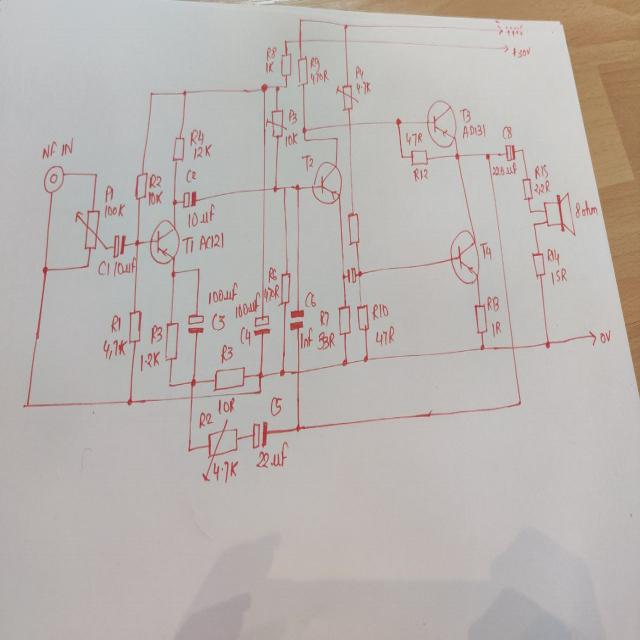capacitor: (250, 418, 268, 449), (186, 311, 204, 336), (252, 314, 272, 336), (288, 307, 305, 331), (112, 230, 126, 258), (181, 189, 197, 209), (503, 142, 515, 161), (346, 265, 356, 283)
crossover: (294, 366, 300, 376), (261, 184, 267, 194), (297, 36, 303, 46), (510, 342, 516, 352), (343, 36, 349, 45), (346, 119, 352, 127), (189, 393, 195, 401)
junction: (260, 81, 268, 93), (189, 376, 197, 388), (394, 115, 402, 127), (278, 366, 286, 377), (362, 352, 369, 364), (22, 400, 30, 410), (341, 357, 348, 368), (133, 236, 139, 248), (126, 397, 133, 407), (42, 263, 48, 274), (257, 369, 263, 380), (170, 268, 176, 279), (544, 338, 550, 348), (272, 183, 278, 193), (171, 196, 177, 206), (294, 182, 300, 192), (181, 87, 187, 97), (84, 260, 90, 270), (92, 169, 98, 179), (294, 422, 300, 432), (186, 443, 192, 453), (484, 150, 490, 160), (342, 21, 348, 31), (357, 268, 362, 279), (479, 342, 485, 351), (256, 386, 262, 395), (274, 83, 280, 92), (166, 379, 172, 388), (301, 125, 307, 134), (194, 264, 200, 273), (281, 183, 287, 192), (340, 270, 345, 280), (516, 398, 522, 406), (454, 150, 459, 159), (282, 37, 288, 44), (298, 15, 302, 24), (149, 89, 153, 97), (283, 81, 287, 89), (532, 220, 536, 227), (400, 152, 404, 159), (334, 134, 338, 141), (528, 207, 532, 214), (520, 146, 524, 152), (303, 136, 307, 142)
resistor: (201, 416, 239, 483), (74, 208, 108, 251), (212, 363, 246, 392), (163, 319, 180, 362), (264, 108, 288, 138), (336, 80, 358, 112), (127, 307, 141, 345), (346, 210, 360, 247), (473, 302, 487, 336), (337, 302, 351, 336), (531, 249, 545, 280), (355, 302, 369, 333), (279, 269, 291, 305), (134, 170, 148, 200), (171, 133, 185, 163), (296, 53, 308, 88), (280, 50, 292, 78), (410, 148, 428, 166), (521, 175, 533, 201)
terminal: (42, 164, 64, 193), (588, 328, 596, 346), (495, 20, 503, 38), (502, 42, 509, 54)
text: (256, 440, 288, 470), (40, 134, 74, 159), (206, 280, 238, 304), (211, 458, 239, 484), (186, 203, 215, 228), (235, 291, 259, 318), (102, 336, 126, 360), (198, 230, 224, 251), (112, 255, 136, 277), (574, 197, 598, 218), (374, 323, 394, 348), (138, 348, 160, 370), (461, 121, 486, 138), (315, 329, 335, 350), (103, 199, 125, 218), (549, 265, 568, 286), (491, 162, 517, 176), (309, 68, 329, 86), (192, 142, 212, 160), (371, 300, 389, 319), (216, 396, 235, 414), (299, 326, 313, 350), (219, 342, 233, 364), (533, 179, 551, 196), (147, 189, 163, 208), (189, 127, 205, 146), (103, 178, 115, 203), (211, 310, 225, 331), (300, 152, 314, 173), (411, 166, 429, 182), (404, 129, 422, 145), (505, 22, 523, 38), (97, 258, 111, 278), (354, 78, 370, 95), (198, 410, 213, 428), (264, 283, 278, 302), (148, 172, 162, 191), (270, 394, 282, 416), (239, 324, 251, 346), (109, 311, 121, 333), (511, 45, 531, 58), (534, 162, 548, 180), (546, 246, 560, 264), (182, 233, 194, 254), (150, 323, 162, 343), (486, 294, 500, 311), (458, 106, 472, 123), (304, 289, 316, 308), (481, 240, 492, 260), (309, 52, 321, 70), (288, 105, 298, 126), (284, 130, 297, 146), (267, 265, 277, 285), (318, 308, 329, 326), (265, 45, 277, 61), (501, 124, 513, 140), (354, 64, 364, 82), (491, 318, 501, 336), (598, 329, 610, 343), (185, 167, 196, 181), (264, 60, 274, 74)
transistor: (448, 229, 480, 285), (148, 216, 180, 265), (425, 98, 457, 146), (310, 160, 342, 205)
